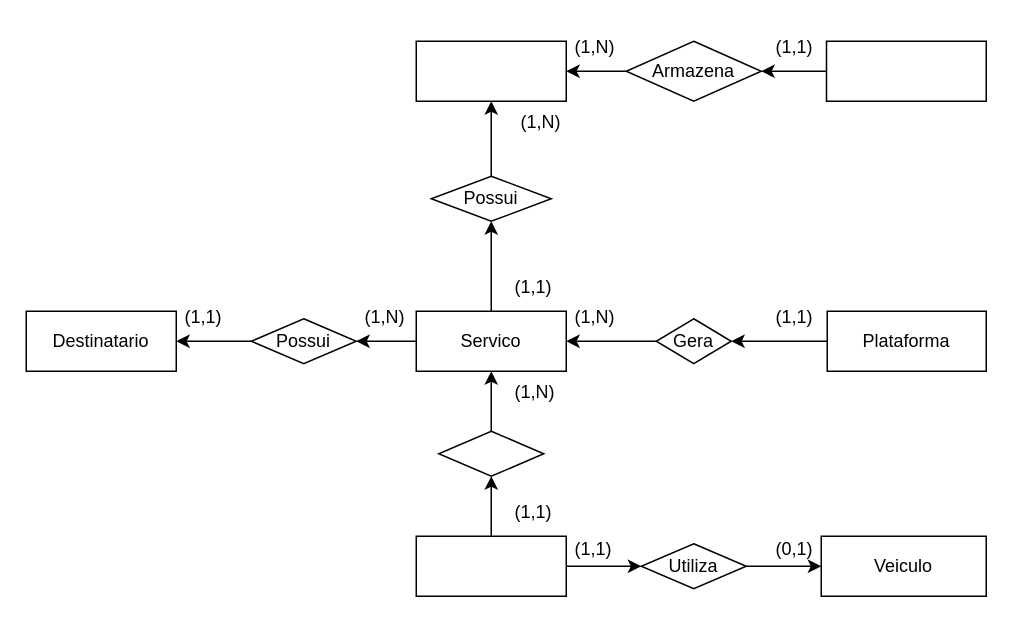
This 1013x623 diagram has some shape labels left out. Here are the shapes that lost their labels. From the top down, the centre of each, then its label:
point 490,70: Item
point 905,70: Deposito
point 490,453: Atende
point 490,565: Funcionario
